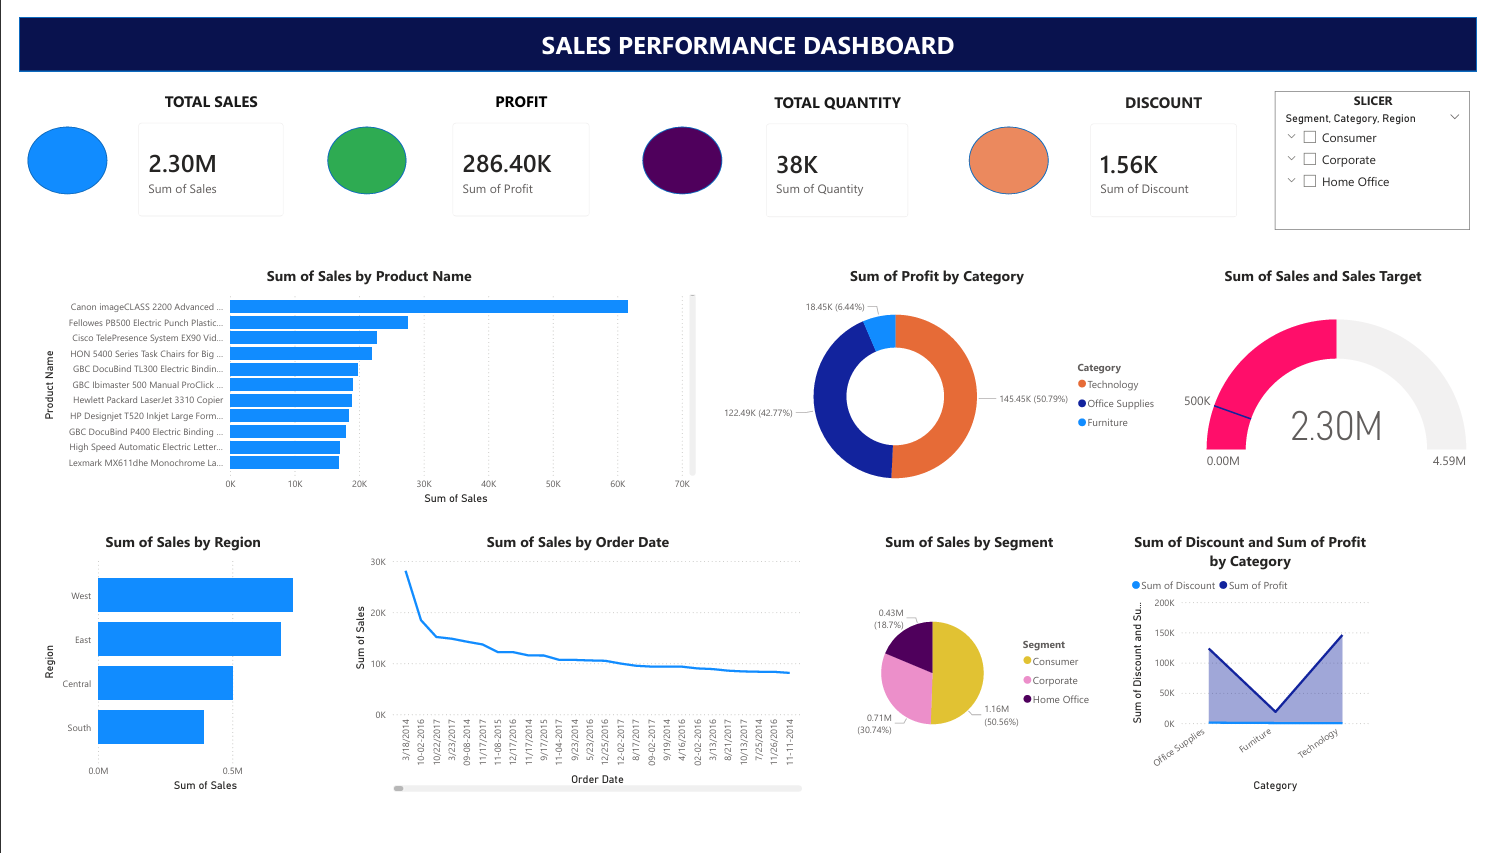

The dashboard page shown, as its layout file describes it:
{"tool":"powerbi","page":{"name":"Page 1","canvas":[1920,1080],"ordinal":0},"visuals":[{"type":"clusteredBarChart","fields":{"Y":["Sum(Sample - Superstore - Sample -.Sales)"],"Category":["Sample - Superstore - Sample -.Region"]},"box":[25.7,677.1,380,347.1],"z":0},{"type":"lineChart","fields":{"Category":["Sample - Superstore - Sample -.Order Date"],"Y":["Sum(Sample - Superstore - Sample -.Sales)"]},"box":[435.7,677.1,600,347.1],"z":1000},{"type":"donutChart","fields":{"Category":["Sample - Superstore - Sample -.Category"],"Y":["Sum(Sample - Superstore - Sample -.Profit)"]},"box":[908.6,327.1,600,318.6],"z":2000},{"type":"barChart","fields":{"Category":["Sample - Superstore - Sample -.Product Name"],"Y":["Sum(Sample - Superstore - Sample -.Sales)"]},"box":[25.7,327.1,870,318.6],"z":3000},{"type":"slicer","title":"SLICER","fields":{"Values":["Sample - Superstore - Sample -.Segment","Sample - Superstore - Sample -.Category","Sample - Superstore - Sample -.Region"]},"box":[1654.3,97.1,257.1,182.9],"z":4000},{"type":"cardVisual","title":"PROFIT","fields":{"Data":["Sum(Sample - Superstore - Sample -.Profit)"]},"box":[554.3,95.7,214.3,184.3],"z":5000},{"type":"cardVisual","title":"TOTAL QUANTITY","fields":{"Data":["Sum(Sample - Superstore - Sample -.Quantity)"]},"box":[967.1,97.1,221.4,184.3],"z":6000},{"type":"cardVisual","title":"TOTAL SALES","fields":{"Data":["Sum(Sample - Superstore - Sample -.Sales)"]},"box":[140,95.7,225.7,184.3],"z":7000},{"type":"shape","box":[0,0,1920,71.4],"z":8000},{"type":"shape","box":[11.4,144.3,104.3,88.6],"z":11000},{"type":"shape","box":[405.7,144.3,104.3,88.6],"z":15000},{"type":"shape","box":[821.4,144.3,104.3,88.6],"z":16000},{"type":"shape","box":[1251.4,144.3,104.3,88.6],"z":17000},{"type":"cardVisual","title":"DISCOUNT","fields":{"Data":["Sum(Sample - Superstore - Sample -.Discount)"]},"box":[1394.3,97.1,227.1,184.3],"z":17001},{"type":"pieChart","fields":{"Category":["Sample - Superstore - Sample -.Segment"],"Y":["Sum(Sample - Superstore - Sample -.Sales)"]},"box":[1078.6,677.1,345.7,347.1],"z":17002},{"type":"stackedAreaChart","fields":{"Category":["Sample - Superstore - Sample -.Category"],"Y":["Sum(Sample - Superstore - Sample -.Discount)","Sum(Sample - Superstore - Sample -.Profit)"]},"box":[1460,677.1,322.9,347.1],"z":17003},{"type":"gauge","fields":{"Y":["Sum(Sample - Superstore - Sample -.Sales)"],"TargetValue":["Sample - Superstore - Sample -.Sales Target"]},"box":[1524.3,327.1,387.1,318.6],"z":17004}]}

Visuals, with their boxes in screenshot pixels (x1, y1, x2, y2), scaled from the page's 1920x1080 canvas onto the 1493x853 screenshot:
clusteredBarChart - Sum(Sample - Superstore - Sample -.Sales) x Sample - Superstore - Sample -.Region: region(20, 535, 315, 809)
lineChart - Sample - Superstore - Sample -.Order Date x Sum(Sample - Superstore - Sample -.Sales): region(339, 535, 805, 809)
donutChart - Sample - Superstore - Sample -.Category x Sum(Sample - Superstore - Sample -.Profit): region(707, 258, 1173, 510)
barChart - Sample - Superstore - Sample -.Product Name x Sum(Sample - Superstore - Sample -.Sales): region(20, 258, 697, 510)
"SLICER" slicer: region(1286, 77, 1486, 221)
"PROFIT" cardVisual: region(431, 76, 598, 221)
"TOTAL QUANTITY" cardVisual: region(752, 77, 924, 222)
"TOTAL SALES" cardVisual: region(109, 76, 284, 221)
shape: region(0, 0, 1492, 56)
shape: region(9, 114, 90, 184)
shape: region(315, 114, 397, 184)
shape: region(639, 114, 720, 184)
shape: region(973, 114, 1054, 184)
"DISCOUNT" cardVisual: region(1084, 77, 1261, 222)
pieChart - Sample - Superstore - Sample -.Segment x Sum(Sample - Superstore - Sample -.Sales): region(839, 535, 1108, 809)
stackedAreaChart - Sample - Superstore - Sample -.Category x Sum(Sample - Superstore - Sample -.Discount): region(1135, 535, 1386, 809)
gauge - Sum(Sample - Superstore - Sample -.Sales) x Sample - Superstore - Sample -.Sales Target: region(1185, 258, 1486, 510)
